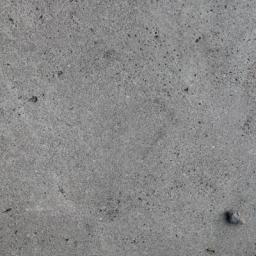FOD: (225, 207, 249, 232)
